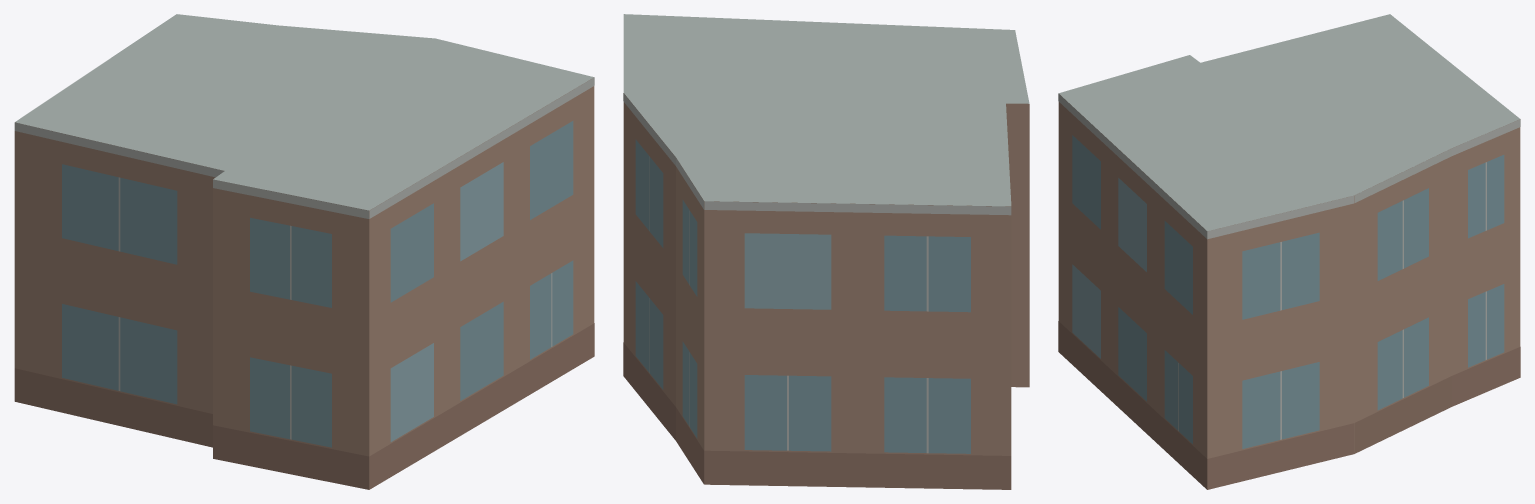
The model's file is survey-upis-32812377.glb.
3 views of the same model, side by side, from view 1: azimuth 30°, elevation 25°; view 2: azimuth 150°, elevation 25°; view 3: azimuth 270°, elevation 25° (orthographic). The views are drawn at different scales.
Visible parts, largest first — view 1: survey-upis-32812377.tmp; view 2: survey-upis-32812377.tmp; view 3: survey-upis-32812377.tmp.
Part boxes in pixels (x1=…): survey-upis-32812377.tmp: x1=14, y1=14, x2=594, y2=489; survey-upis-32812377.tmp: x1=623, y1=14, x2=1029, y2=489; survey-upis-32812377.tmp: x1=1058, y1=14, x2=1520, y2=489.
Size of the model in its own units: 14.25 by 7.9 by 12.8.
